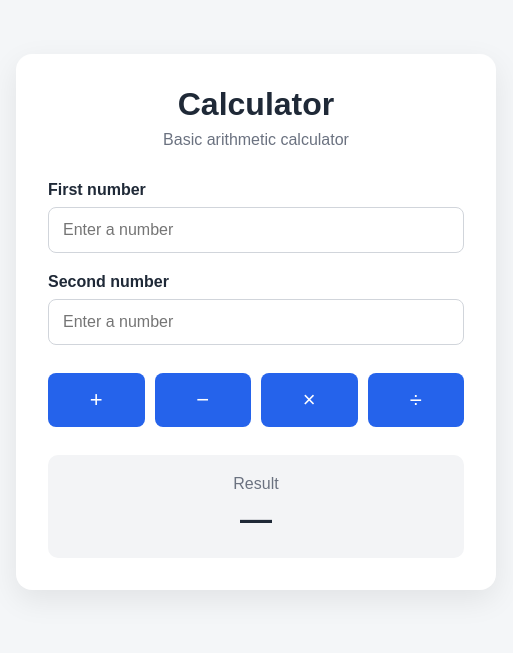
Scenario: Calculator › shows an error when the backend cannot be reached
The image size is (513, 653).
In the number field labelled "First number": (256, 230) [48,207,464,253], type "10"
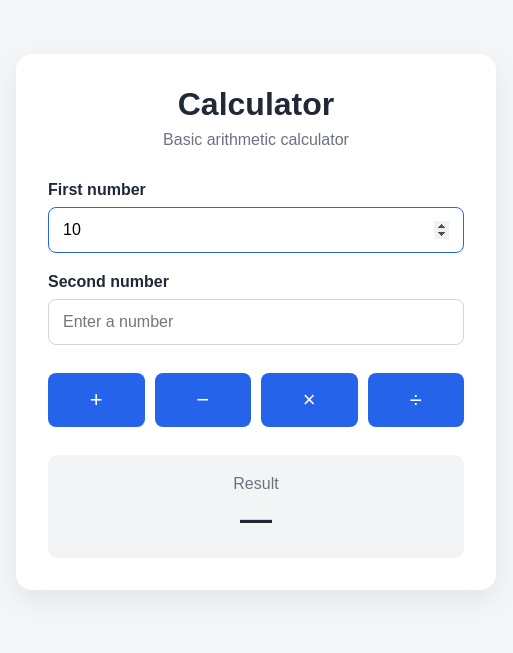
In the number field labelled "Second number": (256, 322) [48,299,464,345], type "5"
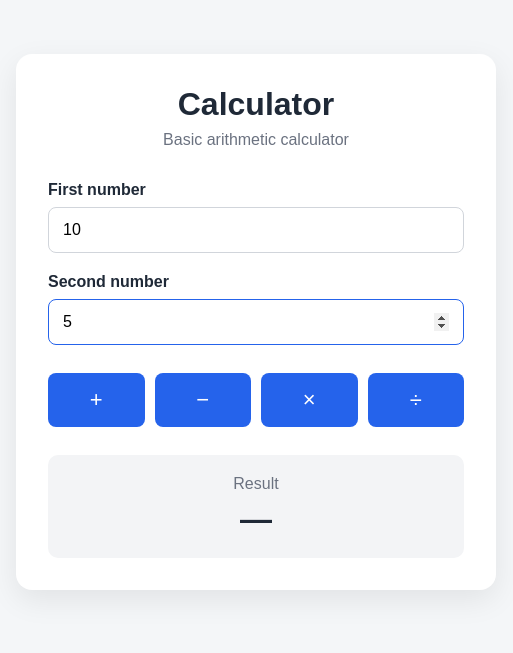
Click the button "+": (96, 400) [48,373,144,427]
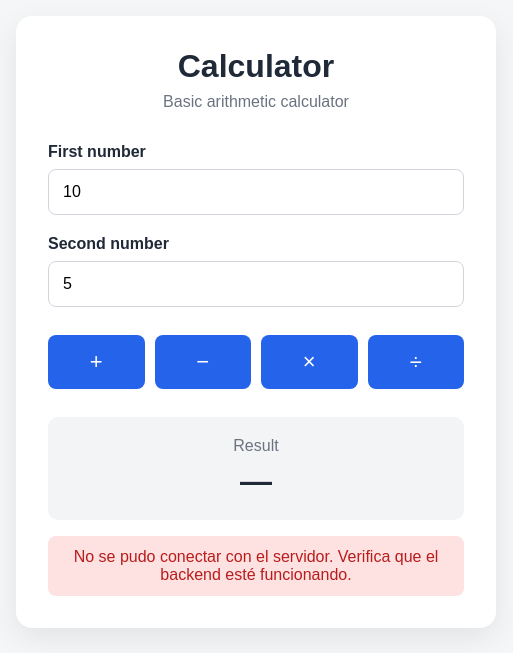
Check: the text "No se pudo conectar con el servidor. Verifica que el backend esté funcionando." is shown, box [48,536,464,596]
